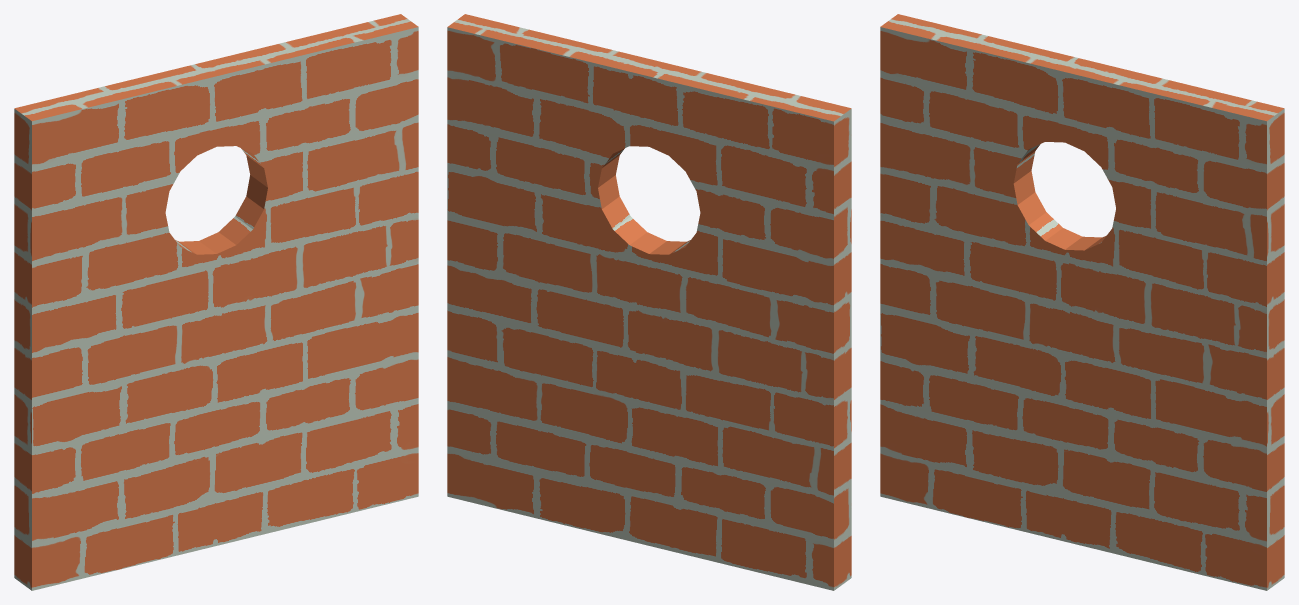
Rendered from Brick_Wall_Bathroom_02.fbx.
3 views of the same model, side by side, from view 1: azimuth 30°, elevation 25°; view 2: azimuth 150°, elevation 25°; view 3: azimuth 330°, elevation 25° (orthographic).
Parts seen in each view (by area): view 1: Brick_Wall_Bathroom_02; view 2: Brick_Wall_Bathroom_02; view 3: Brick_Wall_Bathroom_02.
Part boxes in pixels (x1,y1,x2,y2): Brick_Wall_Bathroom_02: (14,14,418,590); Brick_Wall_Bathroom_02: (447,14,851,590); Brick_Wall_Bathroom_02: (880,14,1284,590).
Bounding box in the file's own units: 250 × 290 × 20.
